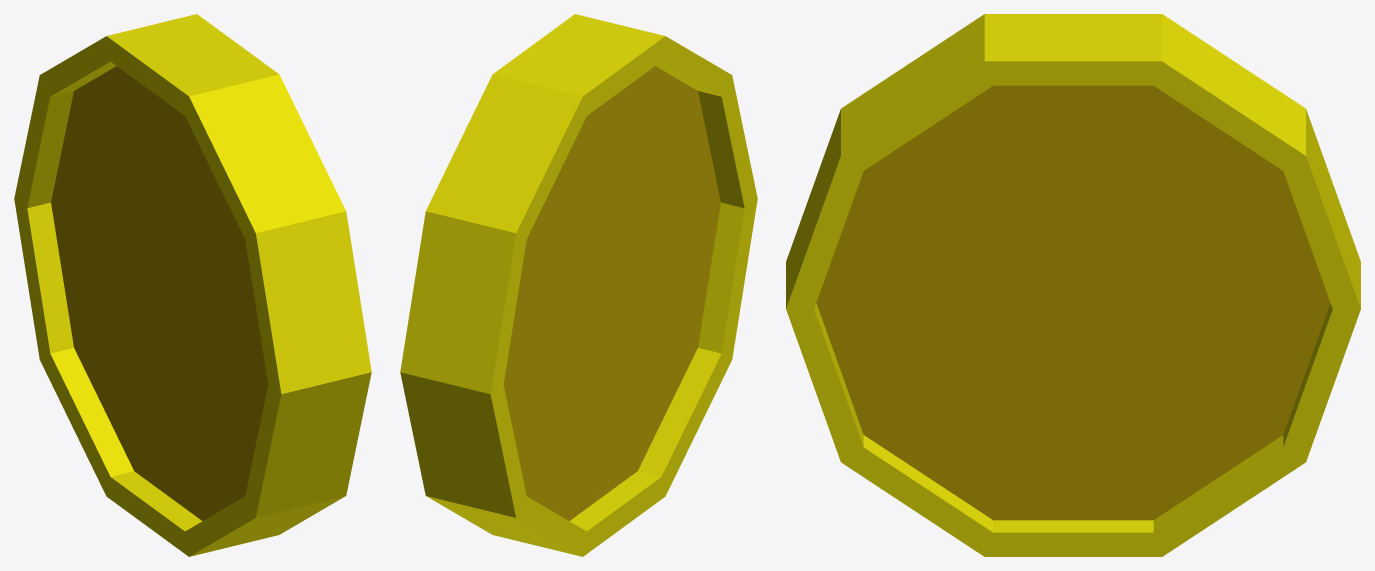
The model's file is Münze.fbx.
3 renders of one model, left to right at view 1: azimuth 30°, elevation 25°; view 2: azimuth 150°, elevation 25°; view 3: azimuth 270°, elevation 25°, orthographic. The views are drawn at different scales.
Parts seen in each view (by area): view 1: Cylinder; view 2: Cylinder; view 3: Cylinder.
Part boxes in pixels (x1,y1,x2,y2): Cylinder: (14, 14, 371, 556); Cylinder: (400, 14, 757, 556); Cylinder: (786, 14, 1360, 556).
Size of the model in its own units: 39.07 by 190 by 200.
